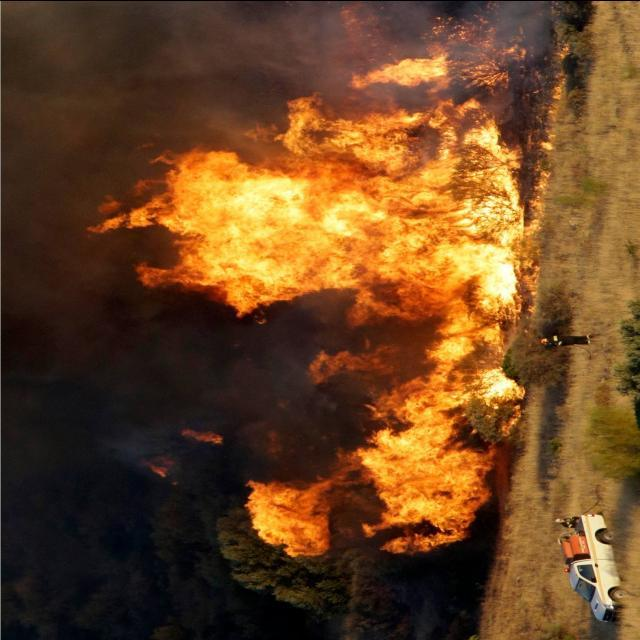Fire: (105, 21, 559, 560)
